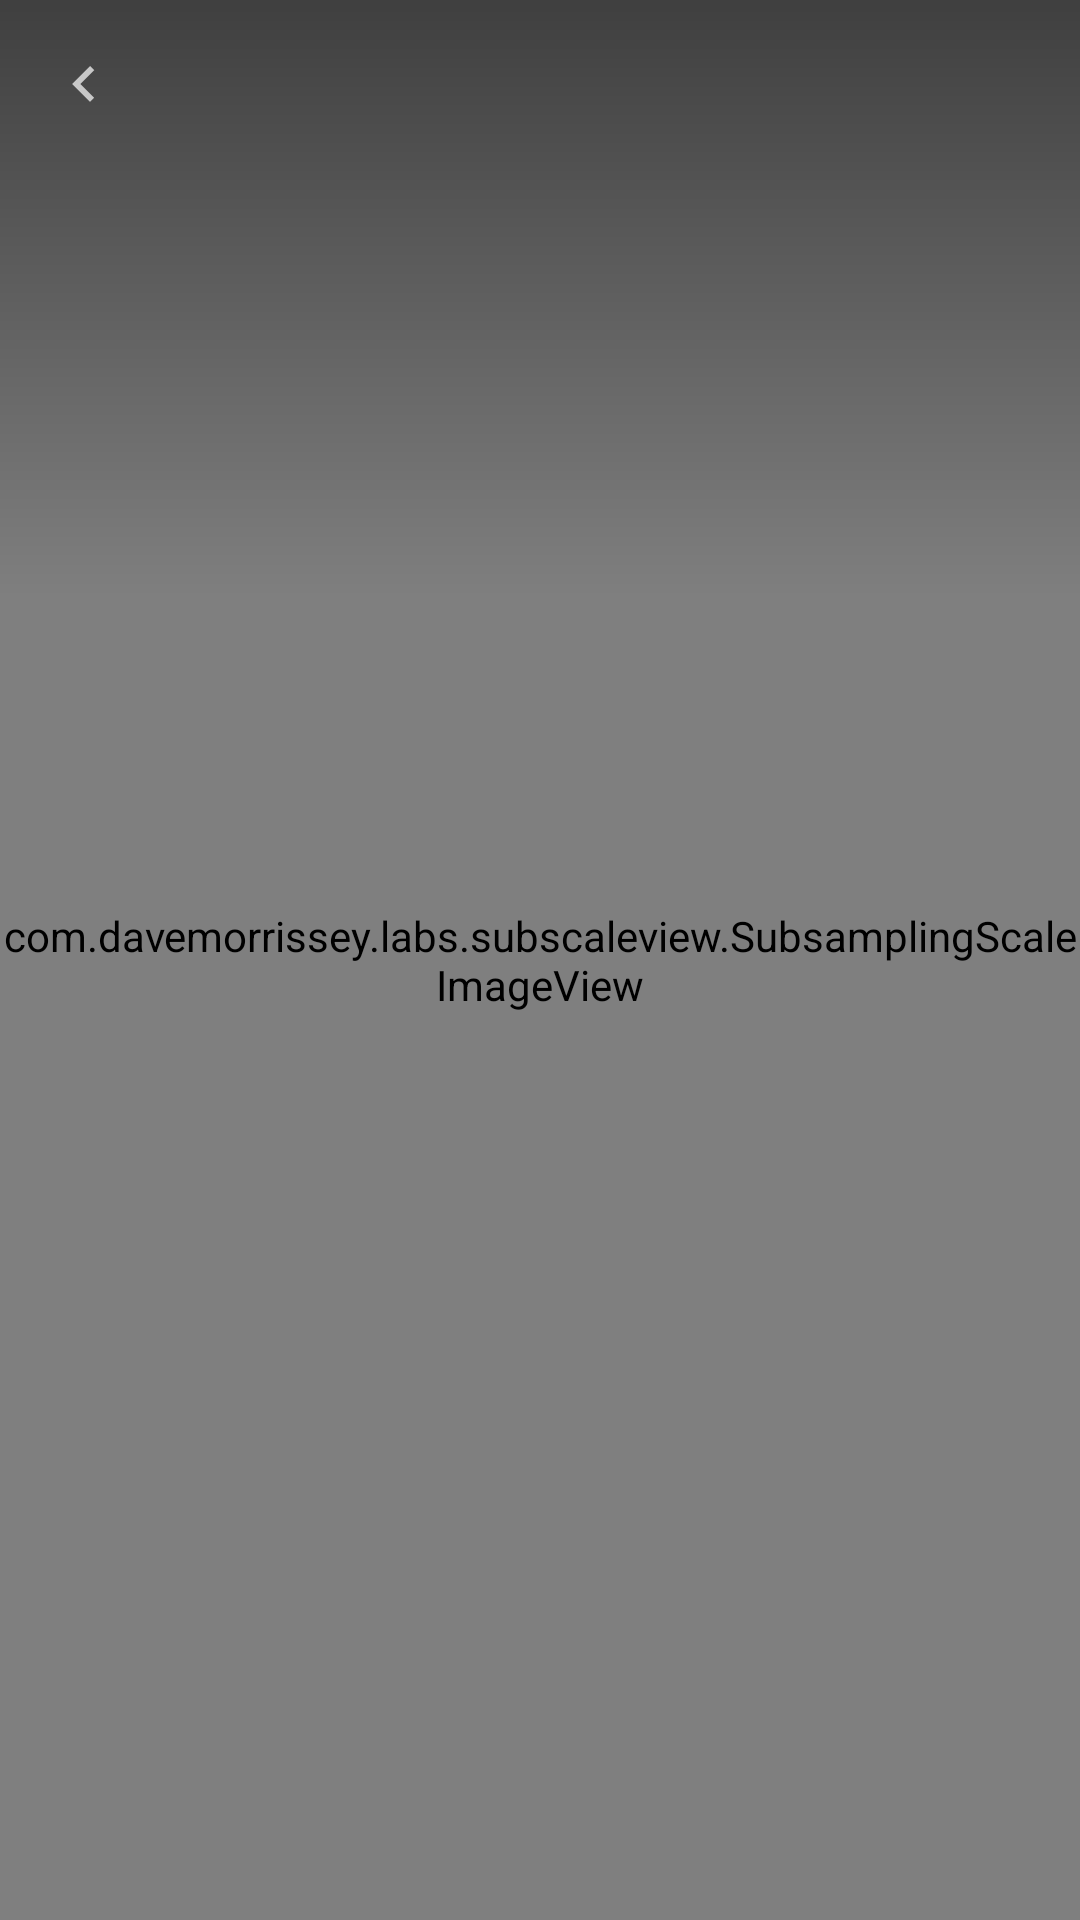

Screen size 1080px x 1920px. Icon name, then its center in pixels as (x=x, y=y):
back: (x=83, y=84)
